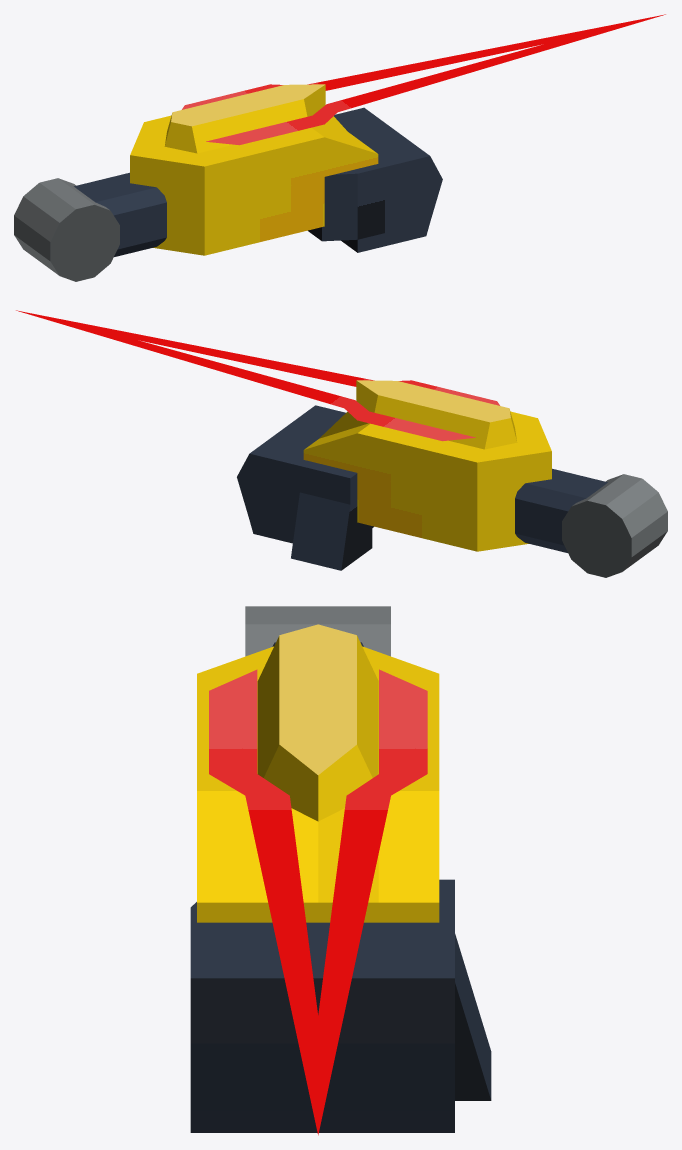
The model's file is YellowJacketRightArm.obj.
3 renders of one model, top to bottom at view 1: azimuth 30°, elevation 25°; view 2: azimuth 150°, elevation 25°; view 3: azimuth 270°, elevation 25°, orthographic. The views are drawn at different scales.
Parts seen in each view (by area): view 1: Forearm, cuboid, cylinder, plane, Arm; view 2: Forearm, cuboid, cylinder, plane, Arm; view 3: cuboid, Forearm, plane, cylinder.
Boxes of the visible parts, <box> form: Forearm: <box>130,84,378,255</box>; cuboid: <box>308,107,442,252</box>; cylinder: <box>14,178,119,281</box>; plane: <box>182,14,665,145</box>; Arm: <box>74,172,166,256</box>; Forearm: <box>303,380,551,551</box>; cuboid: <box>237,405,373,570</box>; cylinder: <box>562,474,667,577</box>; plane: <box>16,310,499,441</box>; Arm: <box>515,468,607,552</box>; cuboid: <box>190,879,491,1132</box>; Forearm: <box>197,624,439,922</box>; plane: <box>209,669,427,1135</box>; cylinder: <box>245,606,390,656</box>.
Bounding box in the file's own units: 1.26 × 0.2875 × 0.2578.
Materials: 1 (1 with a texture image).
